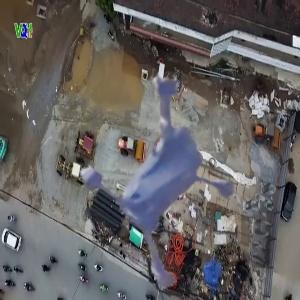drone: (35, 36, 267, 268)
